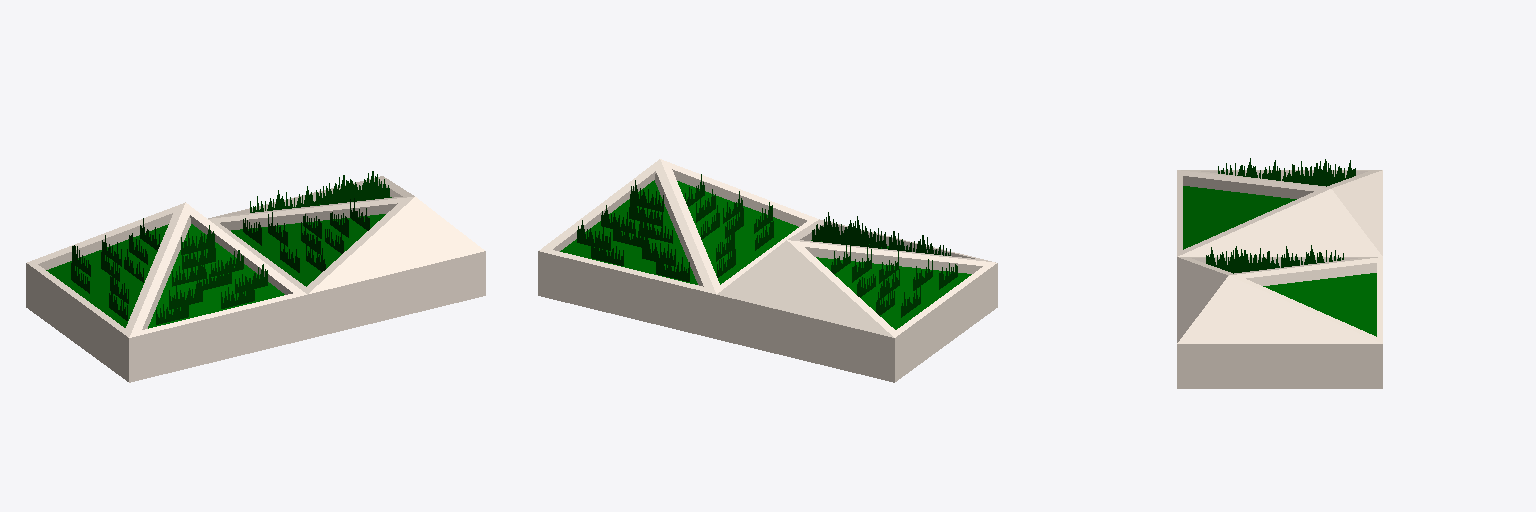
3 views of the same model, side by side, from view 1: azimuth 30°, elevation 25°; view 2: azimuth 150°, elevation 25°; view 3: azimuth 270°, elevation 25° (orthographic).
Parts seen in each view (by area): view 1: Cube; view 2: Cube; view 3: Cube.
Part boxes in pixels (x1,y1,x2,y2): Cube: (26, 171, 485, 382); Cube: (538, 159, 997, 382); Cube: (1177, 158, 1382, 388).
Size of the model in its own units: 4 by 0.9807 by 2.
1 materials, 1 textured.